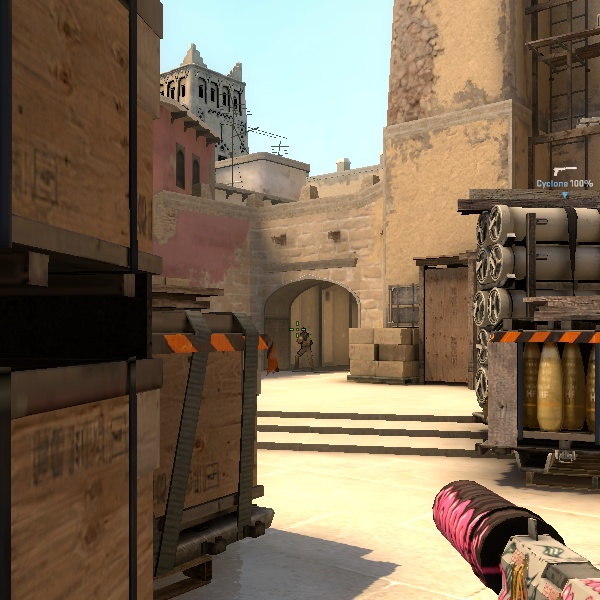t_body: (291, 323, 317, 366)
